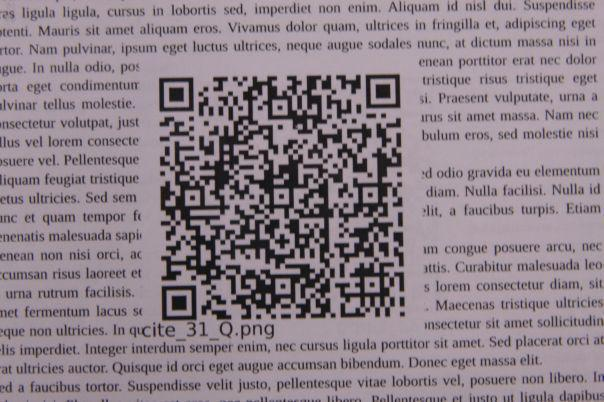qr_code: (158, 74, 405, 321)
